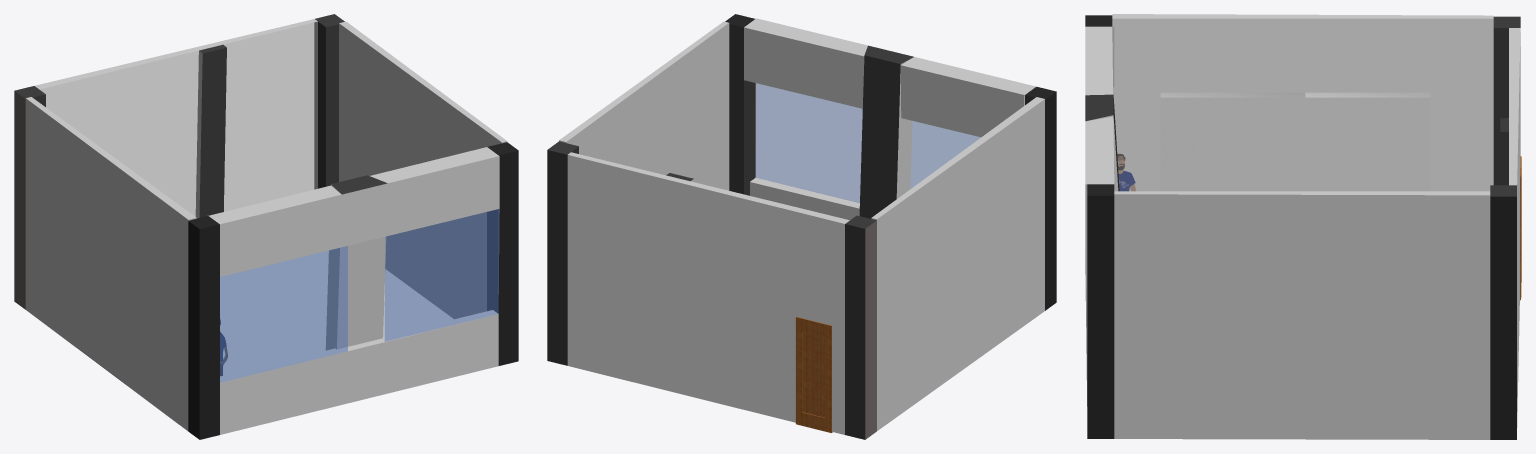
The model's file is Mod_1.fbx.
The picture shows the model from 3 angles, left to right: view 1: azimuth 30°, elevation 25°; view 2: azimuth 150°, elevation 25°; view 3: azimuth 270°, elevation 25°; orthographic projection. The views are drawn at different scales.
Parts seen in each view (by area): view 1: Model; view 2: Model, Door_M1, Door_R1, Door_L1; view 3: Model, Pancho1.
Part boxes in pixels (x1,y1,x2,y2): Model: (14,14,518,439); Model: (547,14,1056,439); Door_M1: (802,332,825,417); Door_R1: (825,324,832,432); Door_L1: (796,317,802,425); Model: (1085,14,1520,439); Pancho1: (1117,153,1135,191).
Size of the model in its own units: 6.39 by 4.04 by 6.49.
